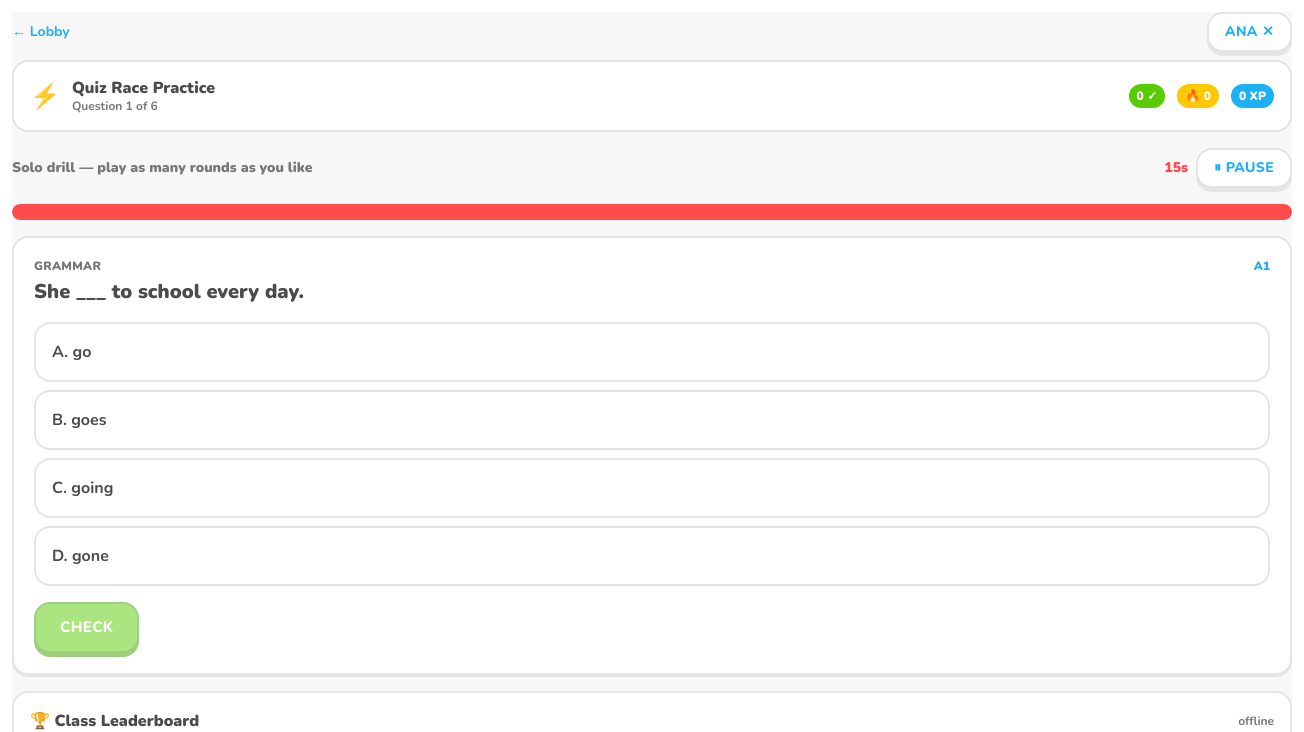
PracticeView › pauses and resumes the per-question timer
The image size is (1304, 732).
Click the button with test id "timer-toggle" at (1244, 168), box x1=1196 y1=148 x2=1292 y2=188
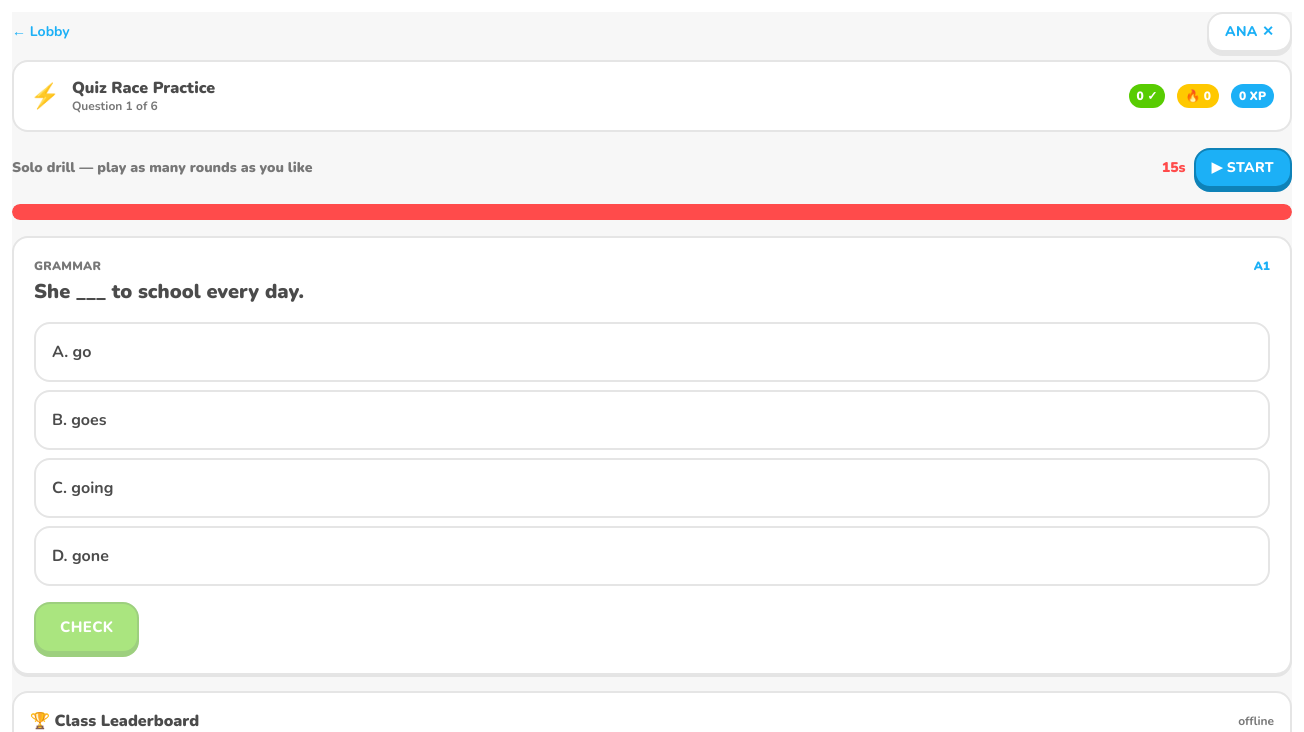
Expected: the button with test id "timer-toggle" shows "Start"
Click the button with test id "timer-toggle" at (1243, 168), box x1=1194 y1=148 x2=1292 y2=188
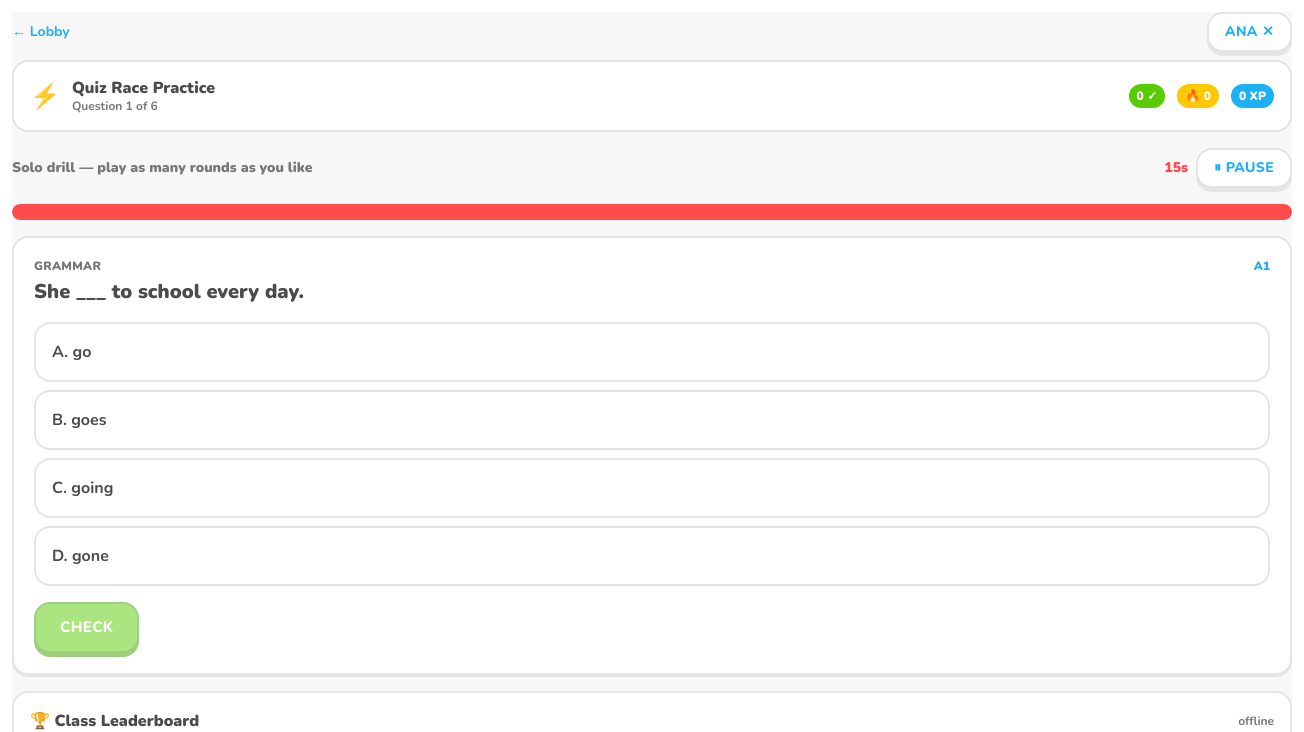
Expected: the button with test id "timer-toggle" shows "Pause", x1=1196 y1=148 x2=1292 y2=188
